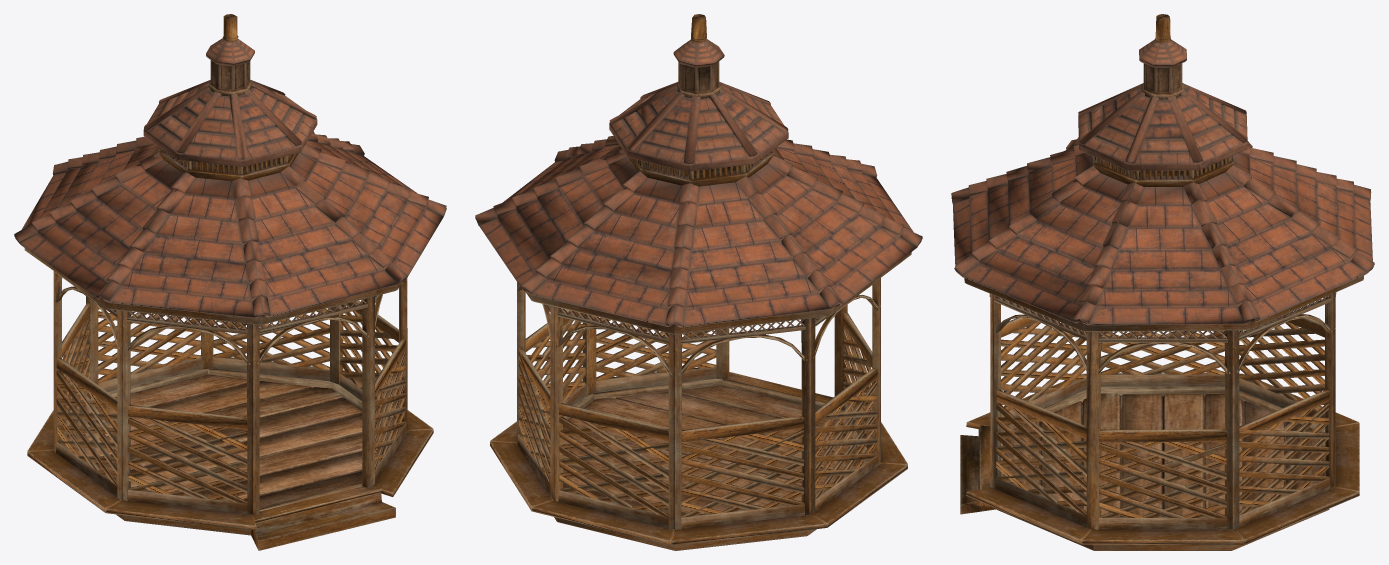
3 views of the same model, side by side, from view 1: azimuth 30°, elevation 25°; view 2: azimuth 150°, elevation 25°; view 3: azimuth 270°, elevation 25° (orthographic). The views are drawn at different scales.
Parts seen in each view (by area): view 1: gazebo.2; view 2: gazebo.2; view 3: gazebo.2.
Boxes of the visible parts, box(x1,y1,x2,y2) form: gazebo.2: box(14, 14, 446, 550); gazebo.2: box(475, 14, 922, 550); gazebo.2: box(951, 14, 1374, 550).
Bounding box in the file's own units: 5.6 × 6.76 × 5.6.
Materials: 1 (1 with a texture image).
